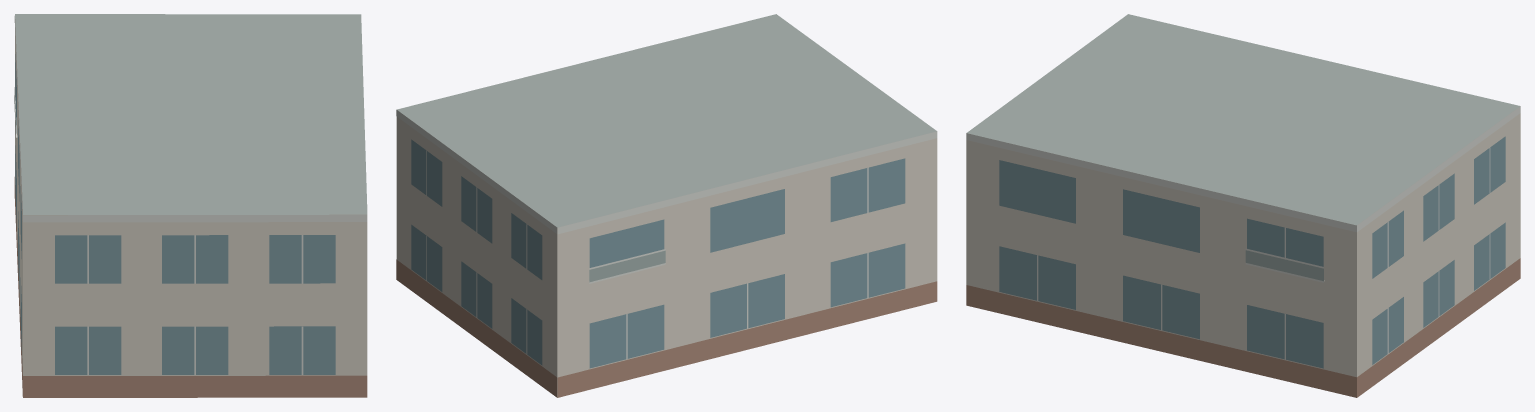
Rendered from survey-upis-32658632.glb.
3 renders of one model, left to right at view 1: azimuth 30°, elevation 25°; view 2: azimuth 150°, elevation 25°; view 3: azimuth 270°, elevation 25°, orthographic. The views are drawn at different scales.
Visible parts, largest first — view 1: survey-upis-32658632.tmp; view 2: survey-upis-32658632.tmp; view 3: survey-upis-32658632.tmp.
Part boxes in pixels (bbox=[...]): survey-upis-32658632.tmp: bbox=[14, 14, 367, 397]; survey-upis-32658632.tmp: bbox=[396, 14, 937, 397]; survey-upis-32658632.tmp: bbox=[966, 14, 1520, 397].
Bounding box in the file's own units: 16.05 × 6.1 × 17.78.
